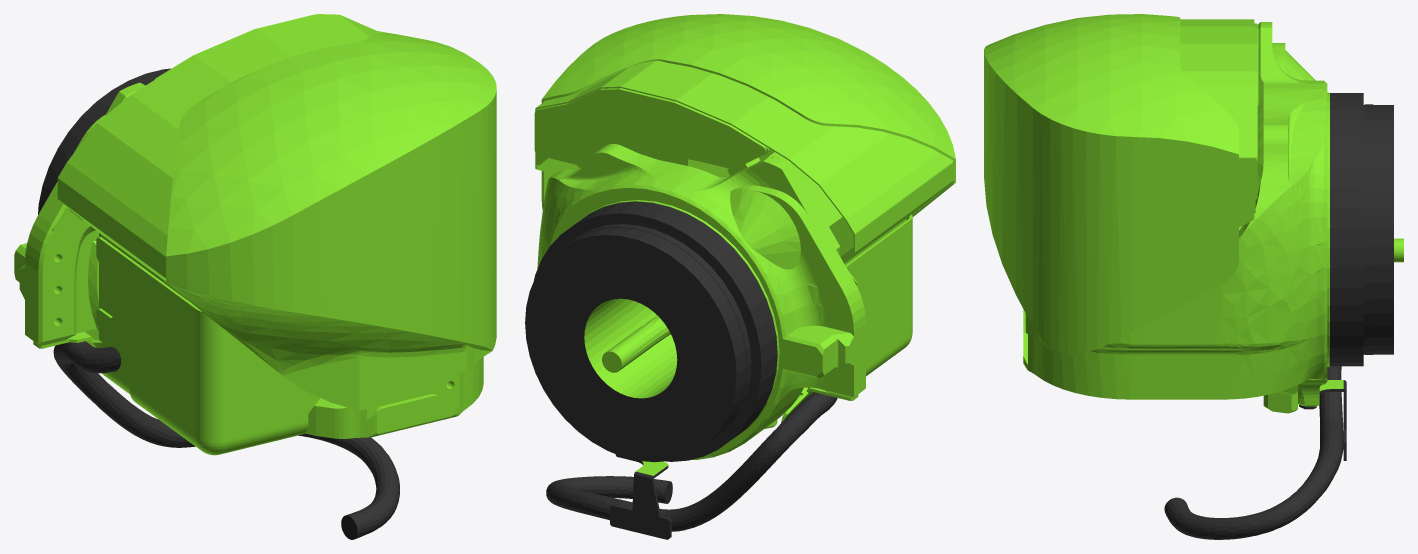
The picture shows the model from 3 angles, left to right: view 1: azimuth 30°, elevation 25°; view 2: azimuth 150°, elevation 25°; view 3: azimuth 270°, elevation 25°; orthographic projection. The views are drawn at different scales.
Visible parts, largest first — view 1: node; view 2: node; view 3: node.
Boxes of the visible parts, <box> form: node: <box>14,14,496,539</box>; node: <box>525,14,955,539</box>; node: <box>984,14,1403,539</box>.
Size of the model in its own units: 404 by 517 by 428.
